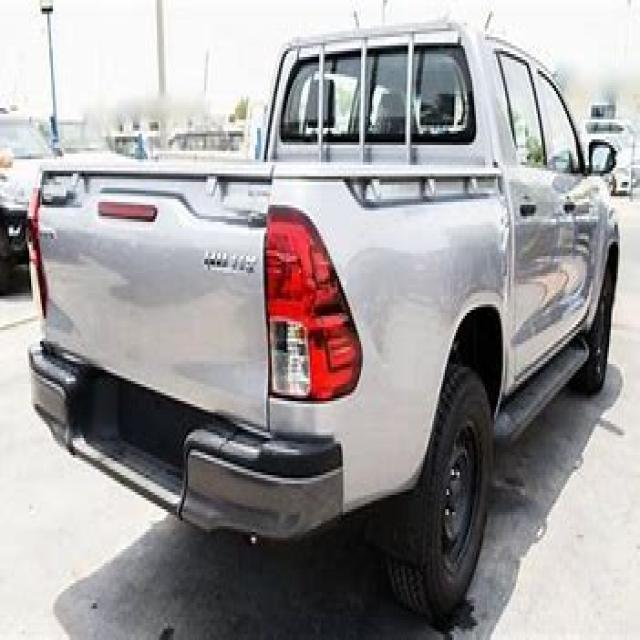light_vehicle: (16, 11, 612, 612)
